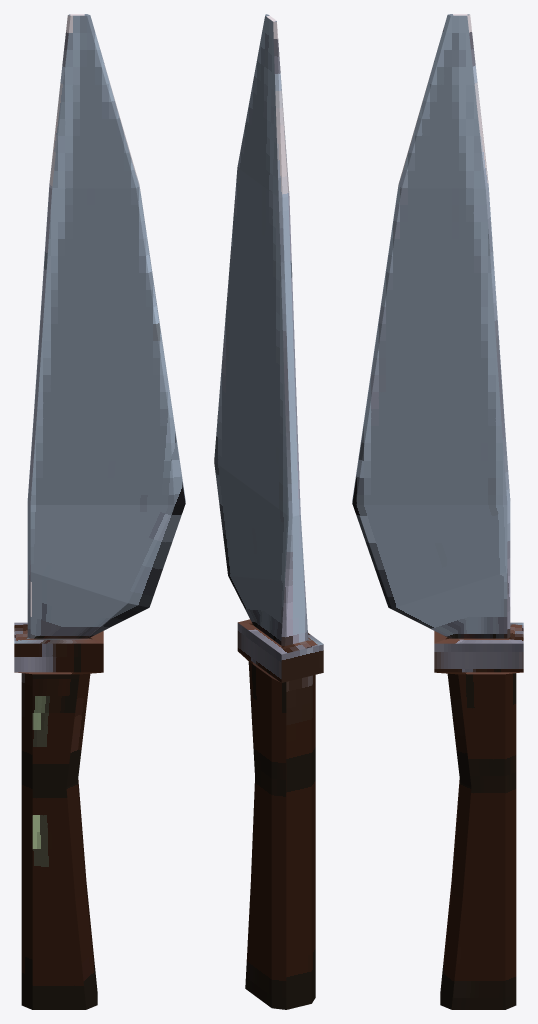
Rendered from kitchen_knife.glb.
3 views of the same model, side by side, from view 1: azimuth 90°, elevation 25°; view 2: azimuth 210°, elevation 25°; view 3: azimuth 270°, elevation 25° (orthographic).
Visible parts, largest first — view 1: Cube; view 2: Cube; view 3: Cube.
Boxes of the visible parts, x1=… form: Cube: x1=14, y1=14, x2=185, y2=1009; Cube: x1=214, y1=14, x2=323, y2=1009; Cube: x1=352, y1=14, x2=523, y2=1009.
Bounding box in the file's own units: 0.6532 × 13.75 × 2.17.
1 material, 1 textured.
